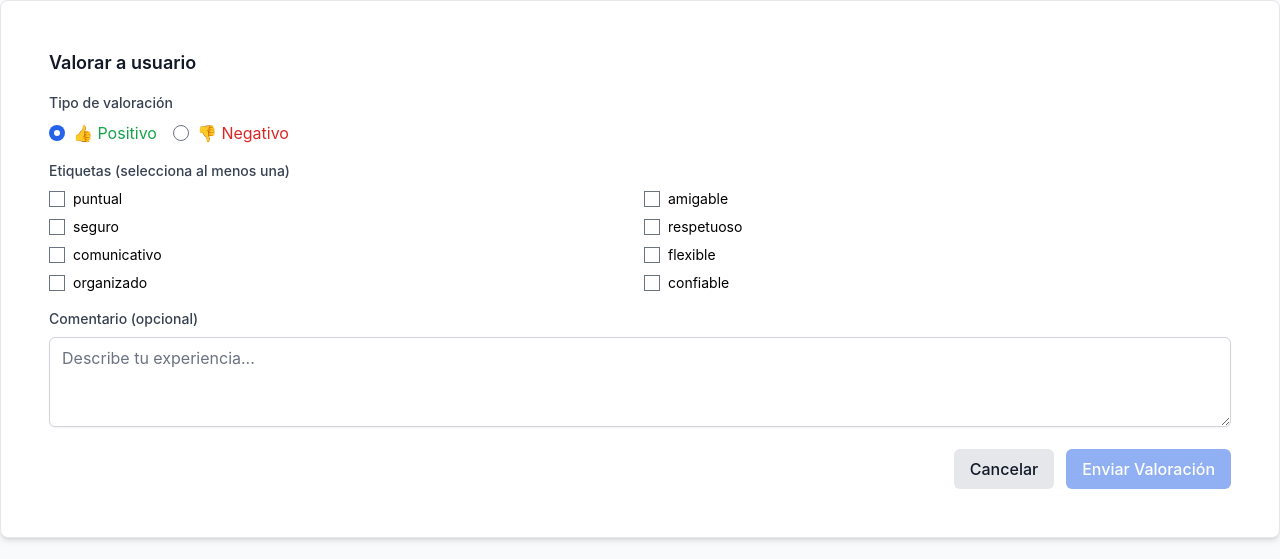
Test: RatingForm › should disable submit button while loading
This screenshot has width=1280, height=559.
// Select a tag
Click the checkbox labelled "puntual".
click(57, 199)  # box x1=49 y1=191 x2=65 y2=207
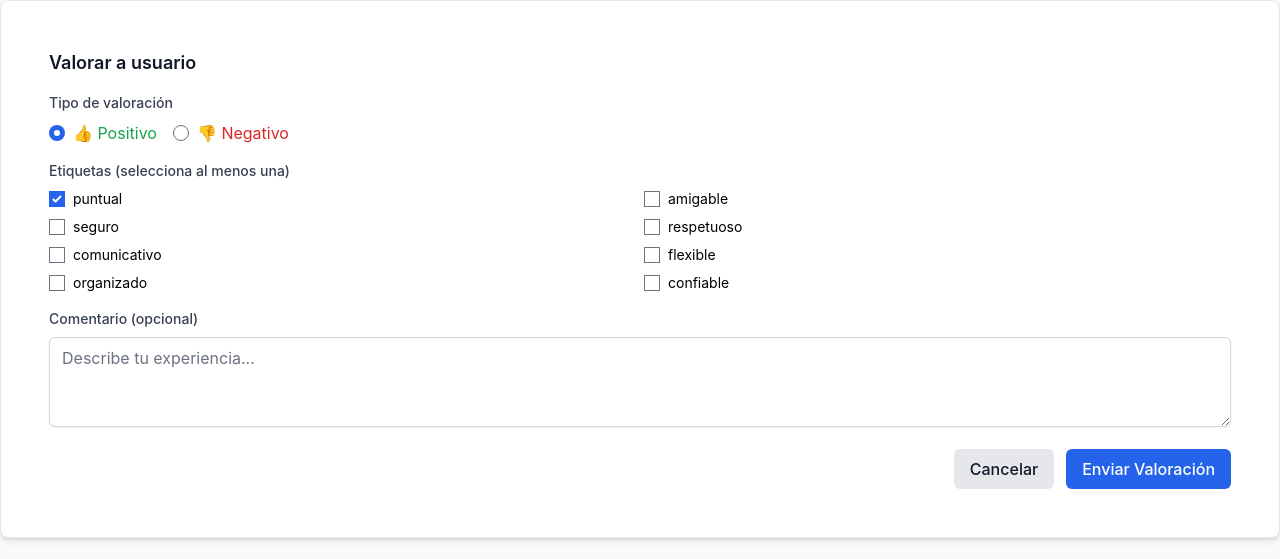
// Submit form
Click the button "Enviar Valoración".
click(1149, 469)  # box x1=1066 y1=449 x2=1231 y2=489
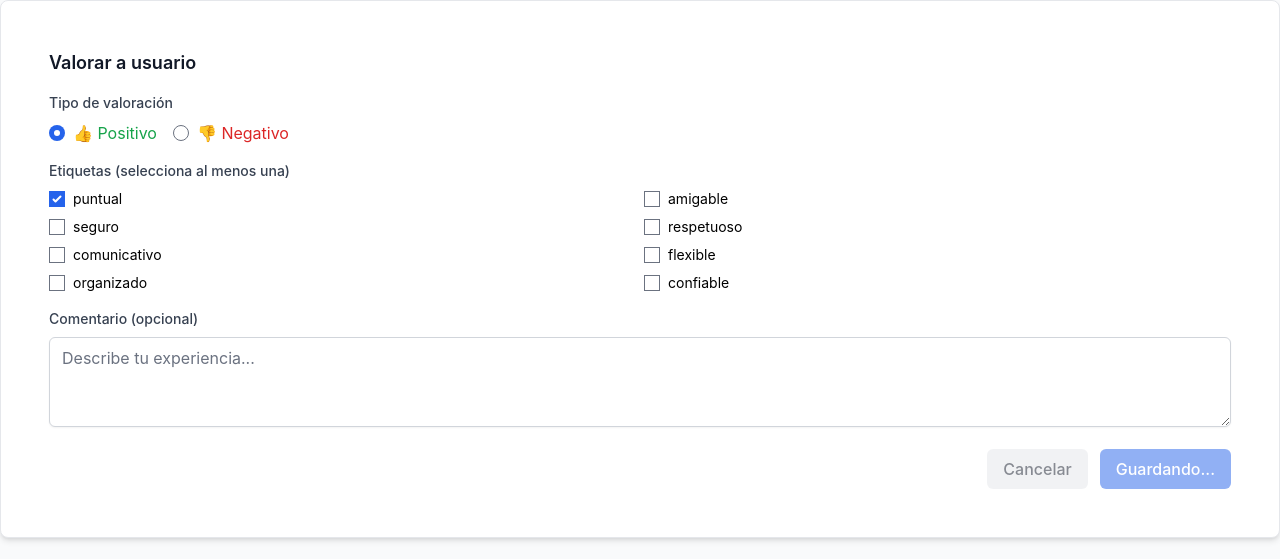
Now the button "Guardando..." is disabled, box x1=1100 y1=449 x2=1231 y2=489
